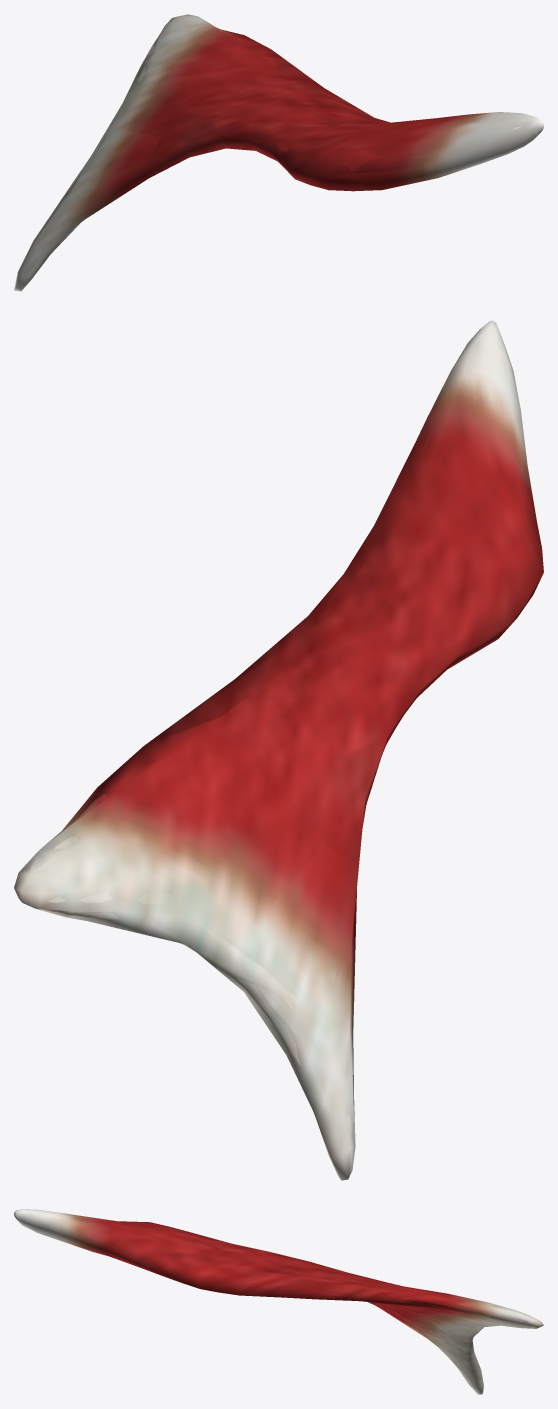
Rendered from R Rhomboideus Thoracicus.fbx.
3 views of the same model, one above another, from view 1: azimuth 30°, elevation 25°; view 2: azimuth 150°, elevation 25°; view 3: azimuth 270°, elevation 25° (orthographic). The views are drawn at different scales.
Parts seen in each view (by area): view 1: R Rhomboideus Thoracicus, R Rhomboideus Thoracicus low, R Rhomboideus Thoracicus high; view 2: R Rhomboideus Thoracicus, R Rhomboideus Thoracicus low, R Rhomboideus Thoracicus high; view 3: R Rhomboideus Thoracicus low, R Rhomboideus Thoracicus, R Rhomboideus Thoracicus high.
Boxes of the visible parts, x1=… form: R Rhomboideus Thoracicus: x1=14, y1=14, x2=543, y2=291; R Rhomboideus Thoracicus low: x1=18, y1=16, x2=539, y2=290; R Rhomboideus Thoracicus high: x1=25, y1=20, x2=540, y2=267; R Rhomboideus Thoracicus: x1=14, y1=320, x2=543, y2=1180; R Rhomboideus Thoracicus low: x1=15, y1=342, x2=543, y2=1156; R Rhomboideus Thoracicus high: x1=31, y1=325, x2=532, y2=1134; R Rhomboideus Thoracicus low: x1=17, y1=1212, x2=542, y2=1380; R Rhomboideus Thoracicus: x1=14, y1=1209, x2=543, y2=1394; R Rhomboideus Thoracicus high: x1=18, y1=1212, x2=534, y2=1380.
Bounding box in the file's own units: 2.06 × 3.21 × 5.97.
1 material, 1 textured.
